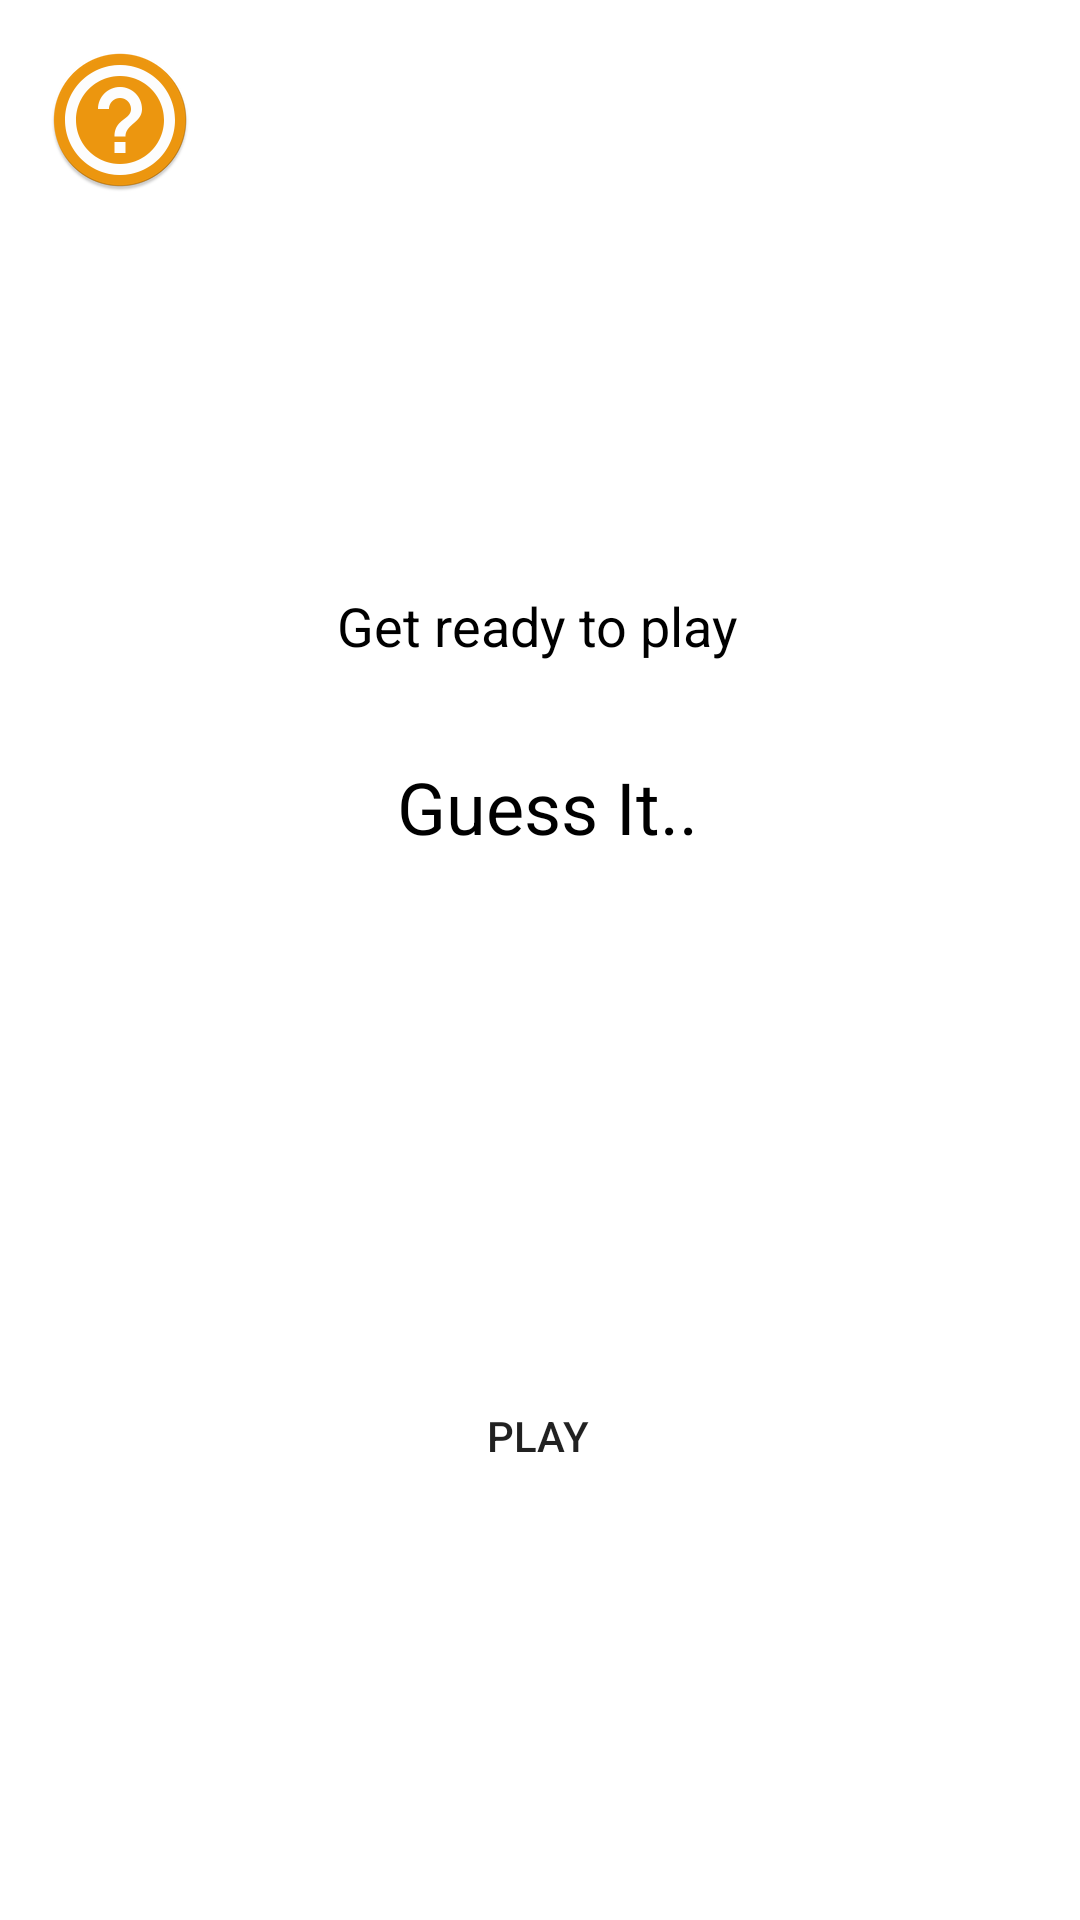

Where to tap for icons on this 1080×1920 app screen, as [x,y]:
About app icon for game introduction and rules: [120,121]
